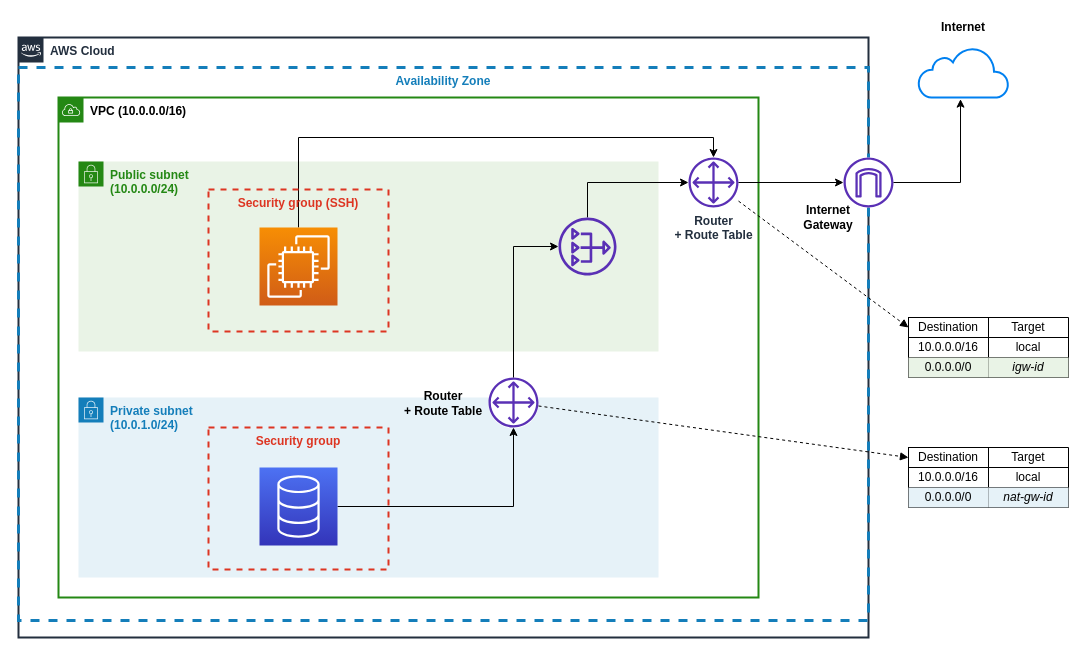
Some shapes in this 1086 by 655 pixel diagram are drawn without their labels. Each missing label, with the centre of its shape:
"EC2" belongs at (x=298, y=266).
"NAT Gateway with Elastic IP" belongs at (x=587, y=246).
